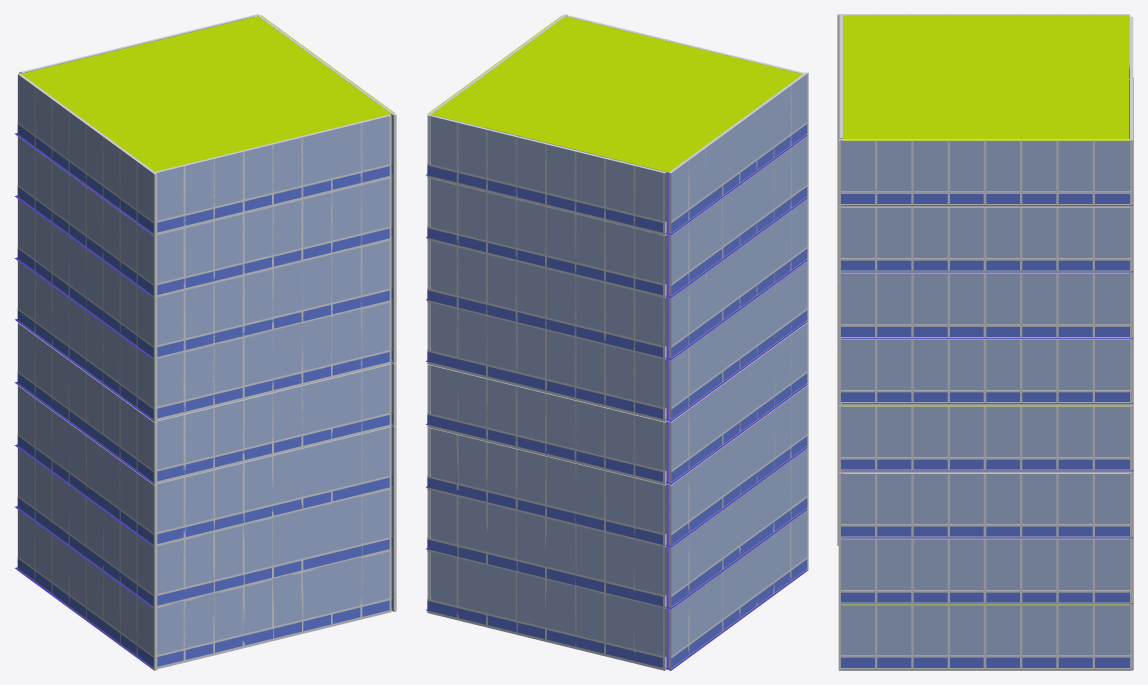
Rendered from kantoorgebouw.fbx.
The picture shows the model from 3 angles, left to right: view 1: azimuth 30°, elevation 25°; view 2: azimuth 150°, elevation 25°; view 3: azimuth 270°, elevation 25°; orthographic projection. The views are drawn at different scales.
Parts seen in each view (by area): view 1: Plane.016, Cube.032, Cube.064, Cube.024, Cube.056, Cube.040, Cube.048, Cube.016, Cube.002, Cube.060, Cube.020, Cube.052 (+22 smaller); view 2: Plane.016, Cube.054, Cube.030, Cube.062, Cube.008, Cube.038, Cube.022, Cube.046, Cube.015, Cube.020, Cube.028, Cube.044 (+23 smaller); view 3: Plane.016, Cube.042, Cube.058, Cube.004, Cube.026, Cube.050, Cube.011, Cube.018, Cube.034, Cube.057, Cube.025, Cube.017 (+12 smaller).
Part boxes in pixels (left/top/right/bottom): Plane.016: left=21, top=15, right=394, bottom=171; Cube.032: left=157, top=365, right=389, bottom=469; Cube.064: left=157, top=116, right=389, bottom=220; Cube.024: left=157, top=427, right=389, bottom=531; Cube.056: left=157, top=178, right=389, bottom=282; Cube.040: left=157, top=303, right=389, bottom=406; Cube.048: left=157, top=241, right=389, bottom=344; Cube.016: left=157, top=490, right=389, bottom=593; Cube.002: left=157, top=551, right=389, bottom=654; Cube.060: left=18, top=74, right=153, bottom=221; Cube.020: left=18, top=386, right=153, bottom=532; Cube.052: left=18, top=137, right=153, bottom=283; Plane.016: left=428, top=15, right=802, bottom=172; Cube.054: left=431, top=179, right=667, bottom=284; Cube.030: left=431, top=365, right=667, bottom=470; Cube.062: left=431, top=116, right=667, bottom=221; Cube.008: left=431, top=490, right=667, bottom=595; Cube.038: left=431, top=302, right=667, bottom=407; Cube.022: left=431, top=428, right=667, bottom=533; Cube.046: left=431, top=241, right=667, bottom=346; Cube.015: left=431, top=551, right=667, bottom=656; Cube.020: left=671, top=386, right=807, bottom=532; Cube.028: left=671, top=323, right=807, bottom=470; Cube.044: left=671, top=199, right=807, bottom=345; Plane.016: left=843, top=15, right=1129, bottom=140; Cube.042: left=841, top=273, right=1129, bottom=324; Cube.058: left=841, top=140, right=1129, bottom=191; Cube.004: left=841, top=539, right=1129, bottom=589; Cube.026: left=841, top=406, right=1129, bottom=456; Cube.050: left=841, top=207, right=1129, bottom=257; Cube.011: left=841, top=605, right=1129, bottom=655; Cube.018: left=841, top=473, right=1129, bottom=523; Cube.034: left=841, top=340, right=1129, bottom=389; Cube.057: left=838, top=139, right=1131, bottom=206; Cube.025: left=838, top=405, right=1131, bottom=472; Cube.017: left=838, top=472, right=1131, bottom=539.
Size of the model in its own units: 1568 by 3033 by 1534.
